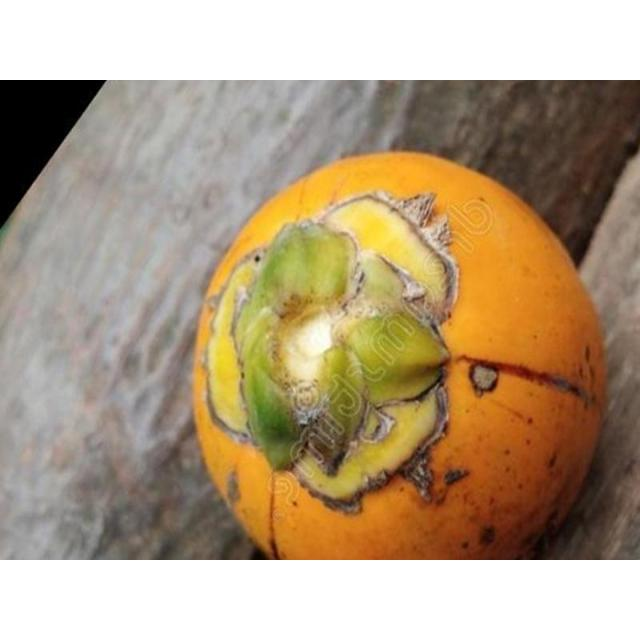good: (189, 151, 610, 559)
